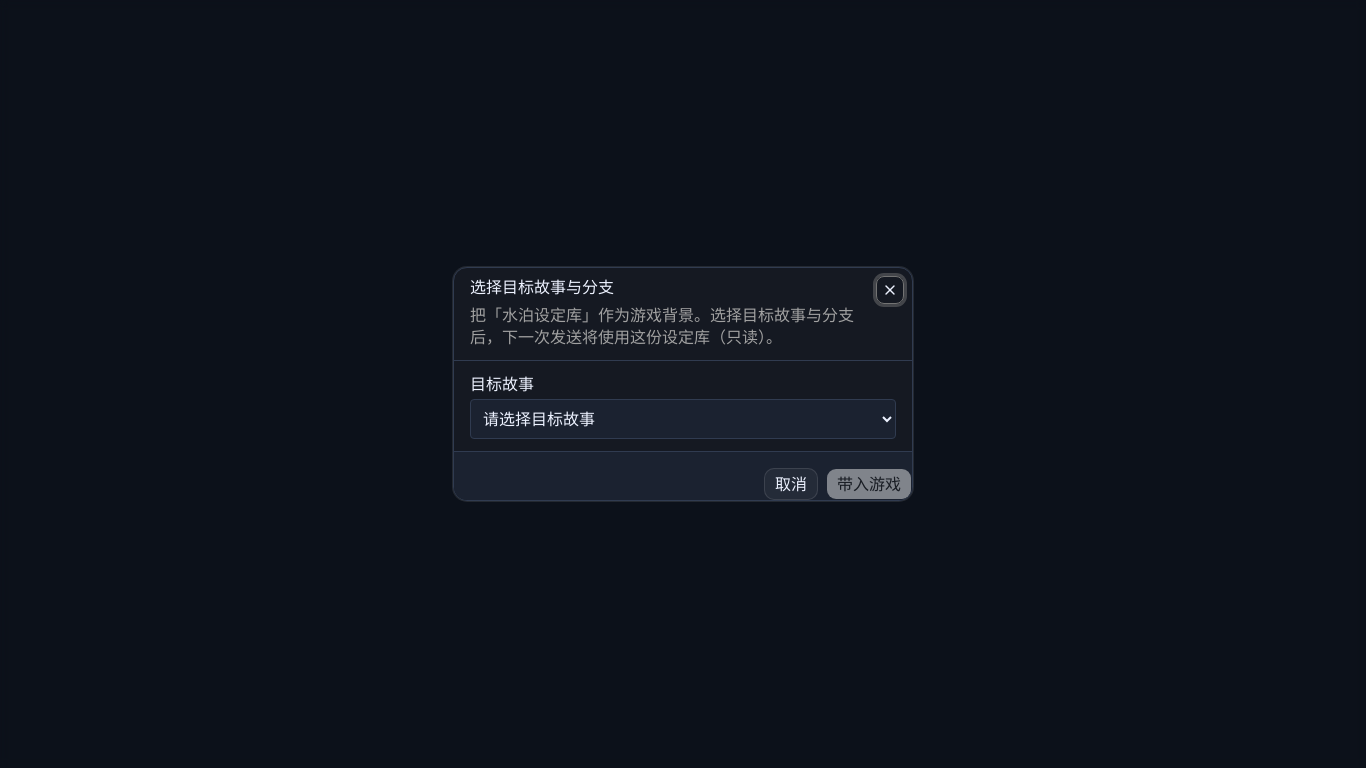
Test case: LibraryGameLaunchDialog failures and defaults (B3b) › keeps the handoff unwritten and shows a visible error when the story switch fails
Step 1. Select "水泊故事" in the dropdown labelled "目标故事" → (683, 419), box [470,399,896,439]
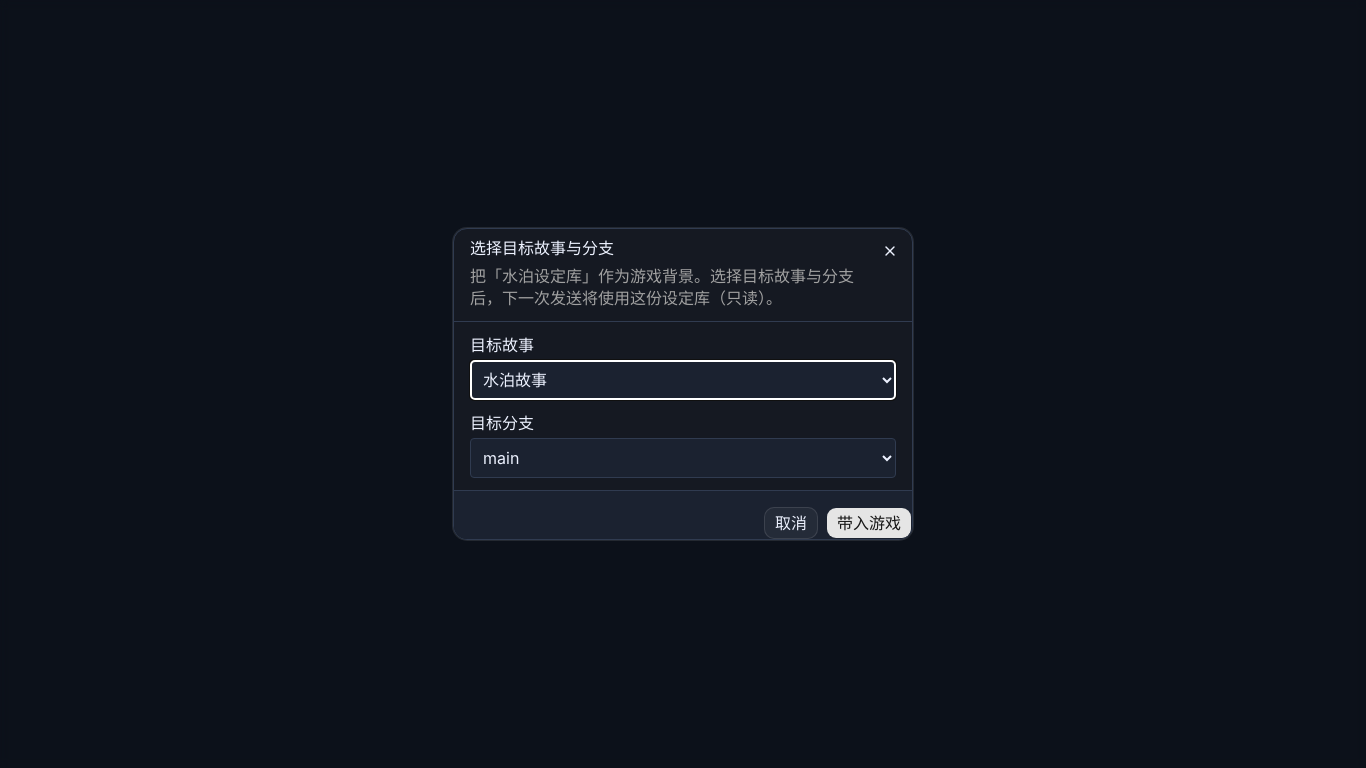
Step 2. Click the button "带入游戏" → (869, 523), box [826,507,912,539]
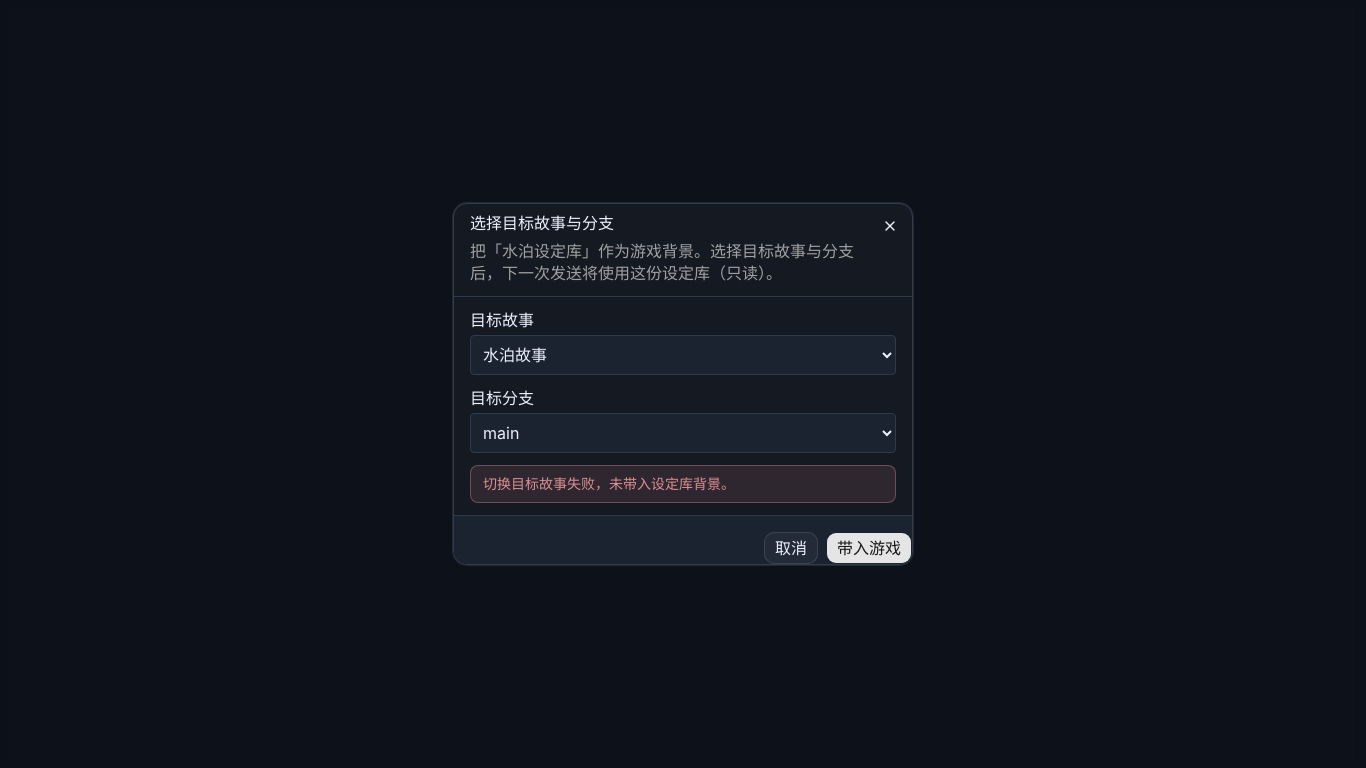
Expected: the message reads "切换目标故事失败，未带入设定库背景。", [483,475,735,492]
